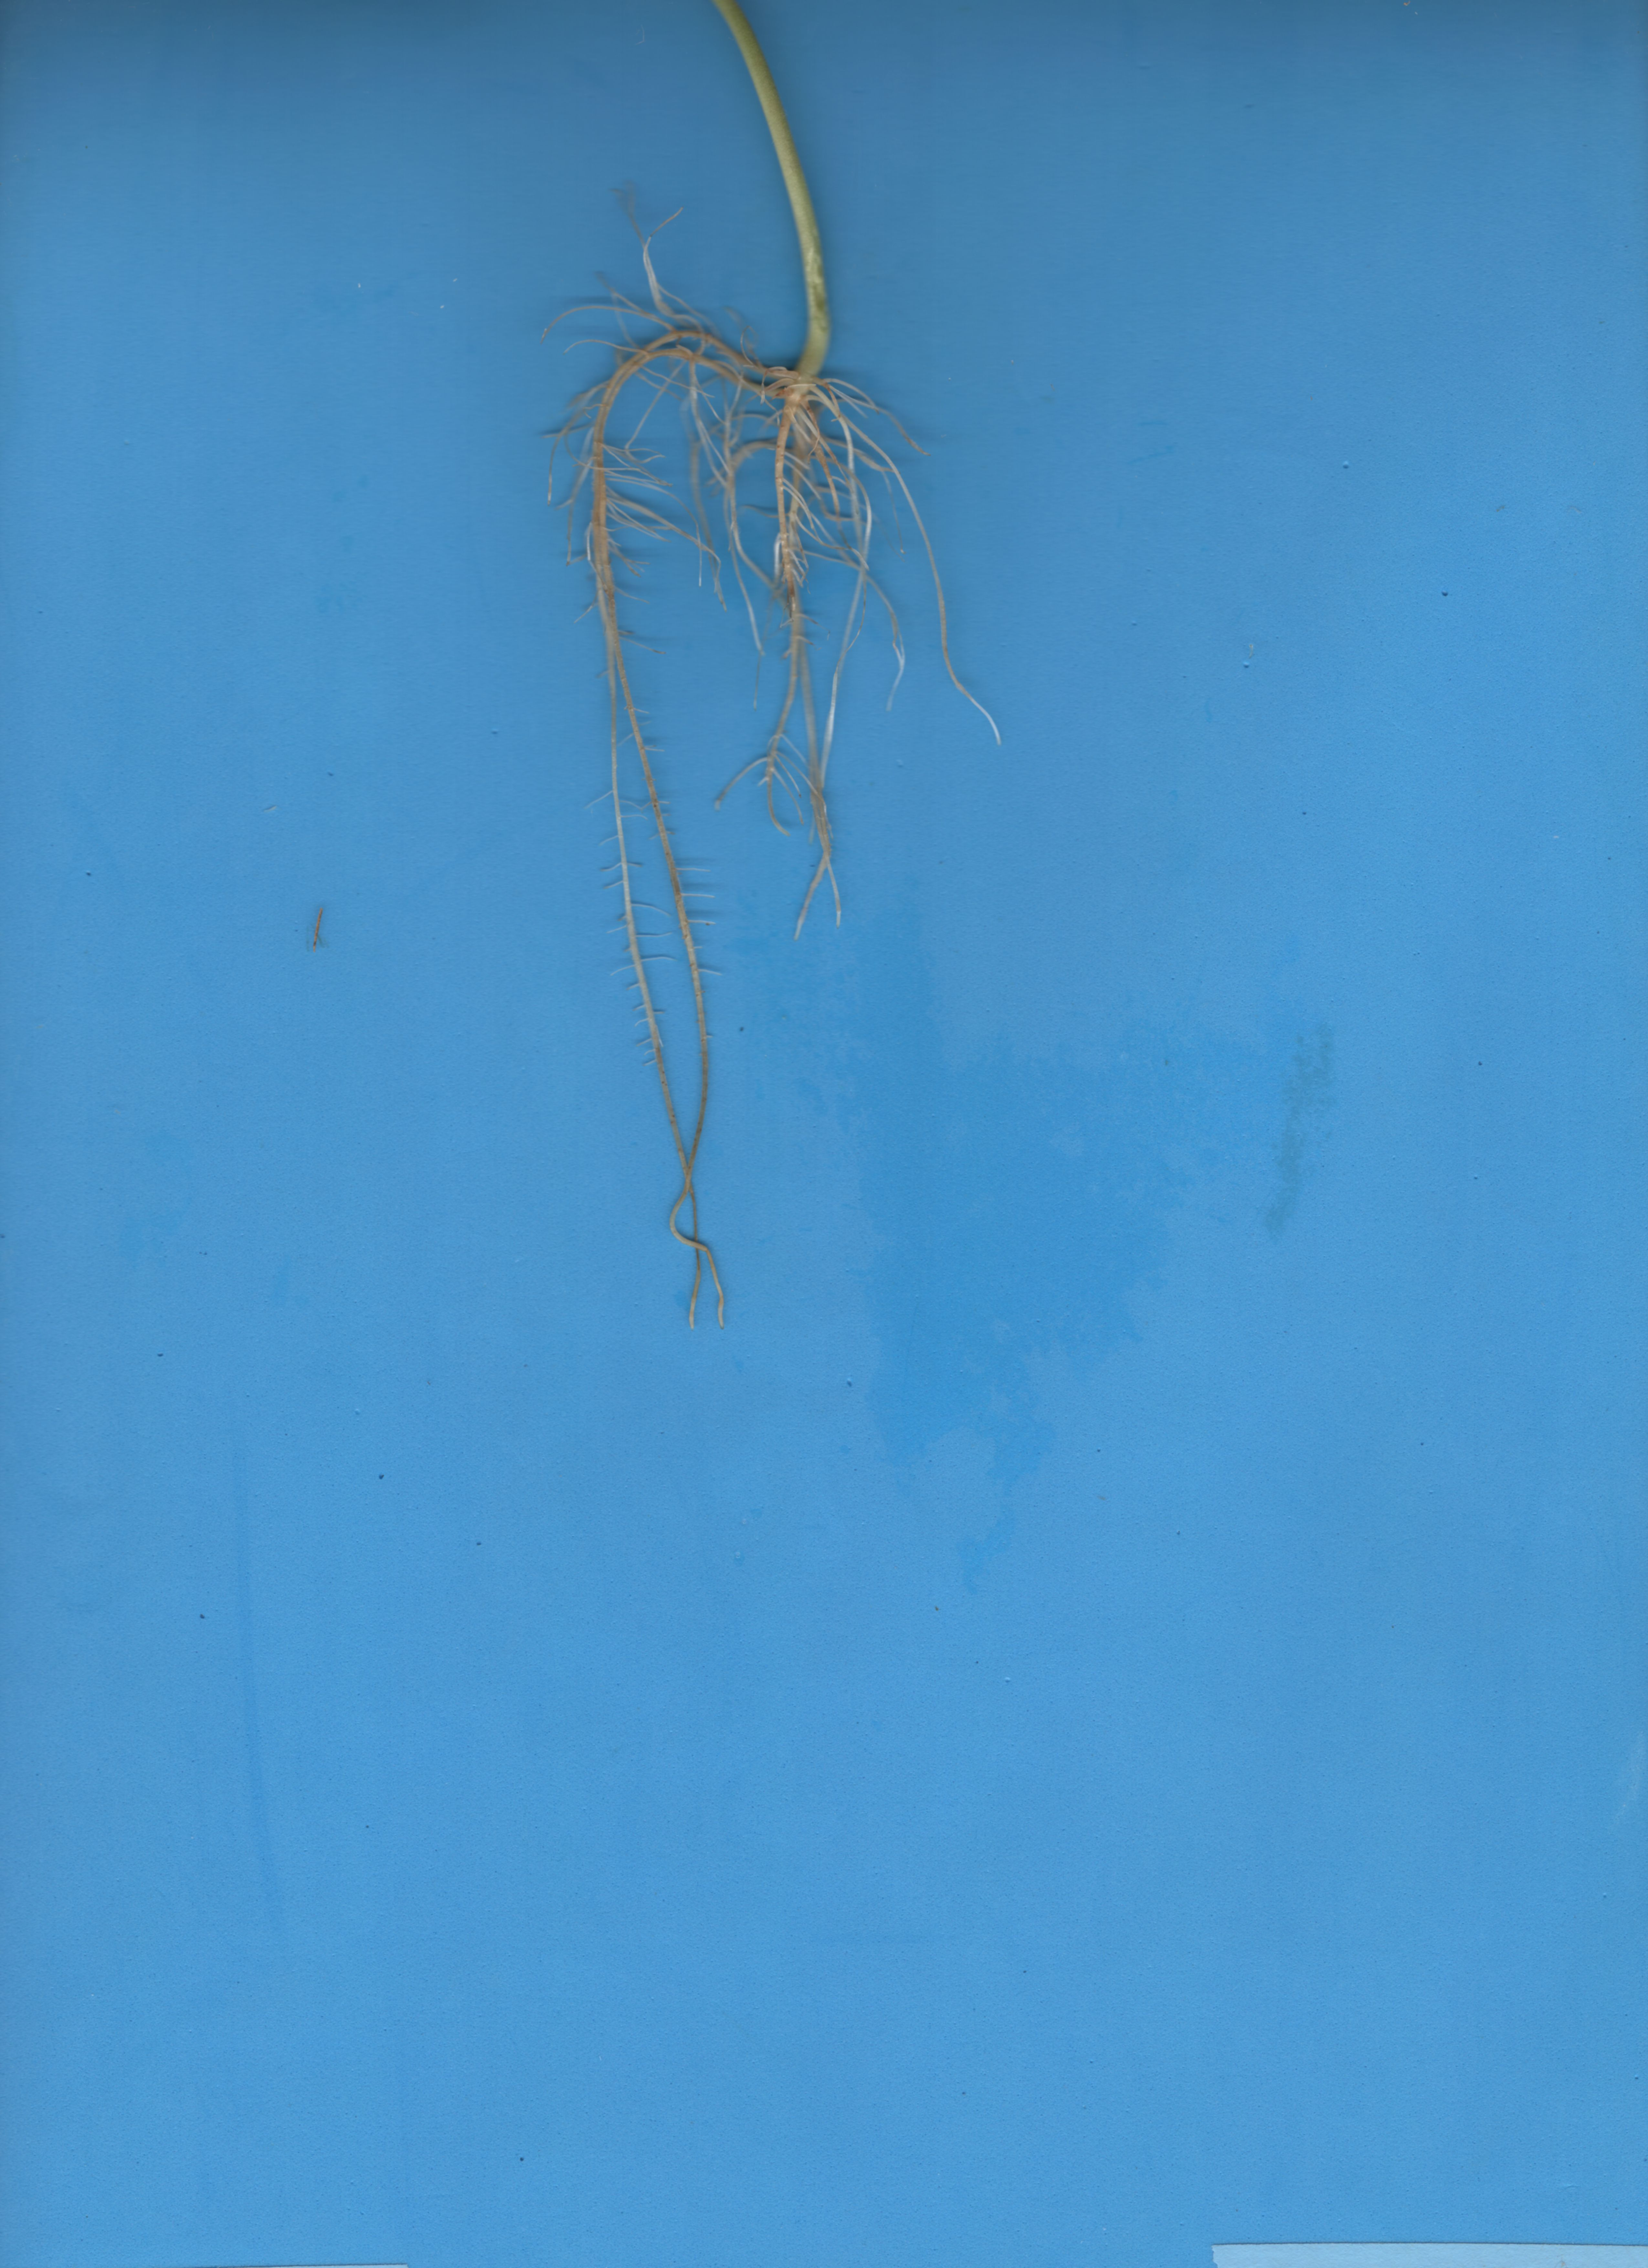CROWNGOOD: (681, 5, 870, 393)
ROOTGOOD: (405, 306, 1012, 1400)
